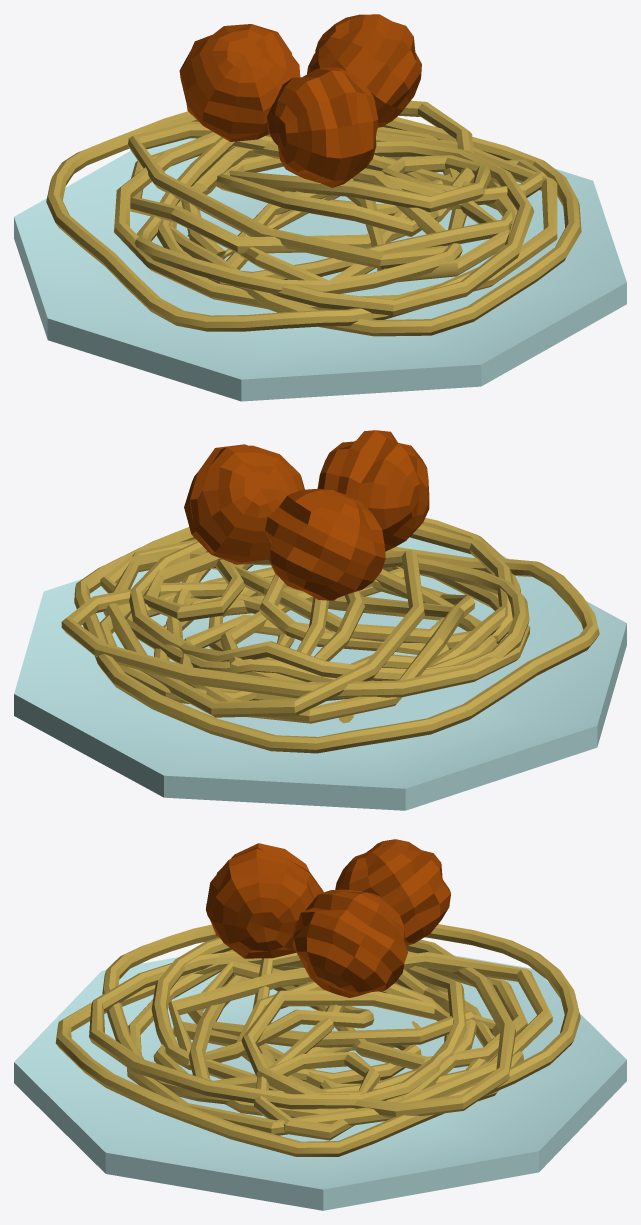
File: SpaghettiWhole.fbx
3 views of the same model, one above another, from view 1: azimuth 30°, elevation 25°; view 2: azimuth 150°, elevation 25°; view 3: azimuth 270°, elevation 25° (orthographic). The views are drawn at different scales.
Parts seen in each view (by area): view 1: Spaghetti_2, Plate, Meatball_3, Meatball_1, Meatball_2; view 2: Spaghetti_2, Plate, Meatball_1, Meatball_2, Meatball_3; view 3: Spaghetti_2, Plate, Meatball_2, Meatball_3, Meatball_1.
Boxes of the visible parts, left/top/right/bottom form: Spaghetti_2: left=46, top=100, right=581, bottom=336; Plate: left=14, top=138, right=626, bottom=401; Meatball_3: left=267, top=67, right=378, bottom=187; Meatball_1: left=179, top=24, right=300, bottom=141; Meatball_2: left=307, top=14, right=421, bottom=127; Spaghetti_2: left=61, top=518, right=599, bottom=753; Plate: left=14, top=538, right=626, bottom=810; Meatball_1: left=265, top=489, right=385, bottom=600; Meatball_2: left=184, top=444, right=304, bottom=564; Meatball_3: left=317, top=430, right=429, bottom=551; Spaghetti_2: left=55, top=924, right=580, bottom=1156; Plate: left=14, top=955, right=626, bottom=1210; Meatball_2: left=292, top=889, right=407, bottom=997; Meatball_3: left=206, top=843, right=323, bottom=958; Meatball_1: left=335, top=839, right=450, bottom=945.
Bounding box in the file's own units: 75.32 × 32.42 × 75.31.
